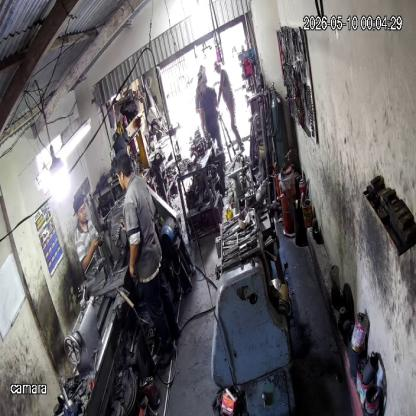sin_lentes: (75, 205, 88, 216)
